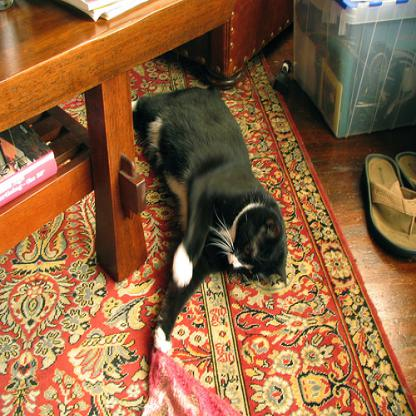cat: (130, 81, 288, 357)
